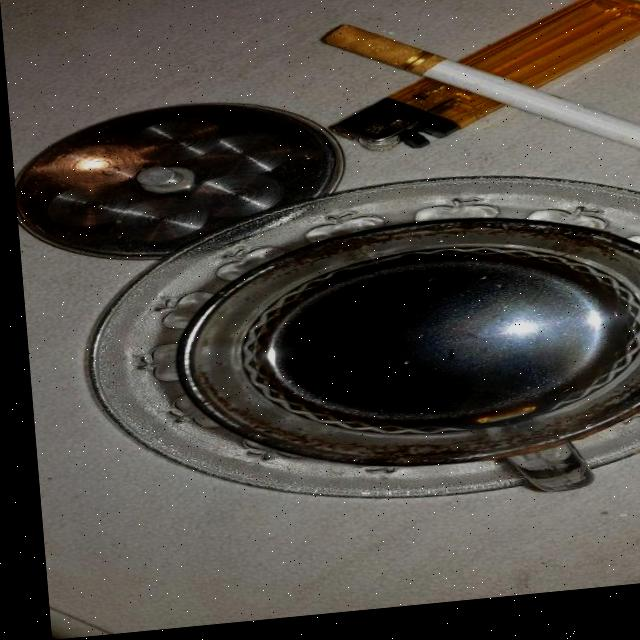cigarette: (318, 8, 640, 190)
